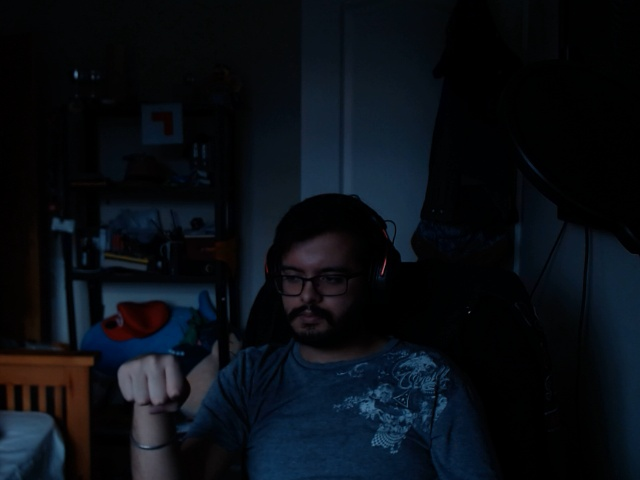Yes: (105, 346, 197, 417)
